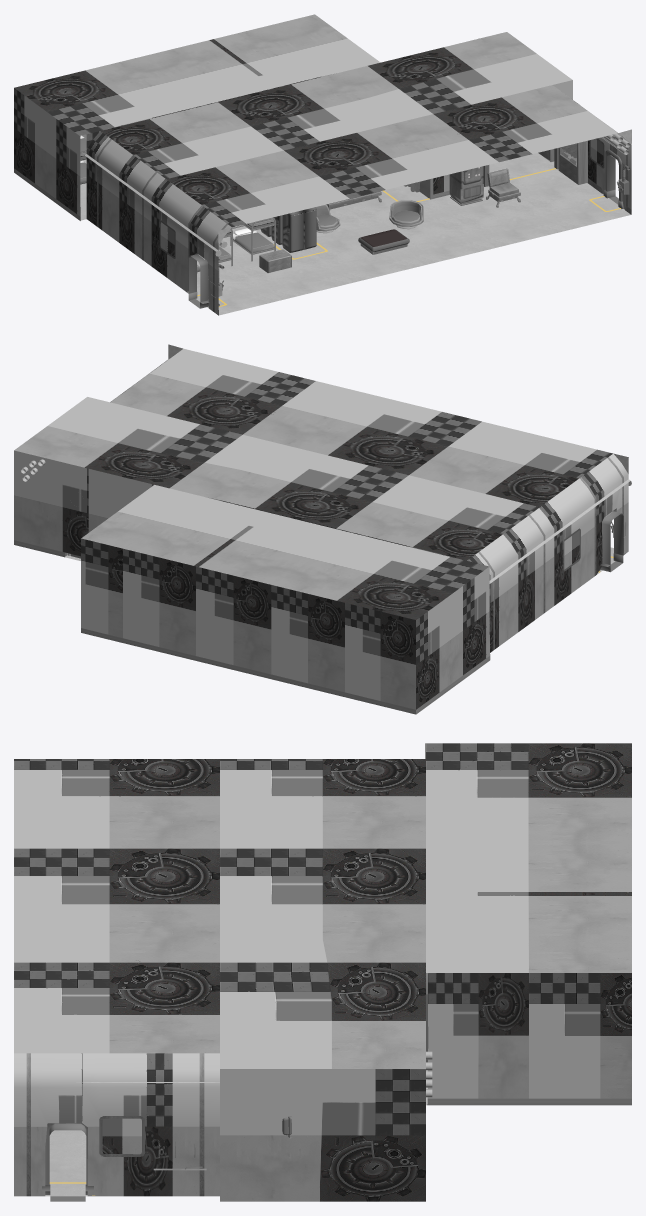
The model's file is MSH_LivingQuarters_L3_R3_Institute_optimized.fbx.
3 views of the same model, one above another, from view 1: azimuth 30°, elevation 25°; view 2: azimuth 150°, elevation 25°; view 3: azimuth 270°, elevation 25° (orthographic). The views are drawn at different scales.
Visible parts, largest first — view 1: lightmap0, lightmap1; view 2: lightmap0; view 3: lightmap0.
Boxes of the visible parts, x1,y1,x2,y2 form: lightmap0: (14,14,631,315); lightmap1: (197,140,587,273); lightmap0: (14,344,631,714); lightmap0: (14,743,631,1201).
Size of the model in its own units: 31.05 by 6.07 by 24.77.
